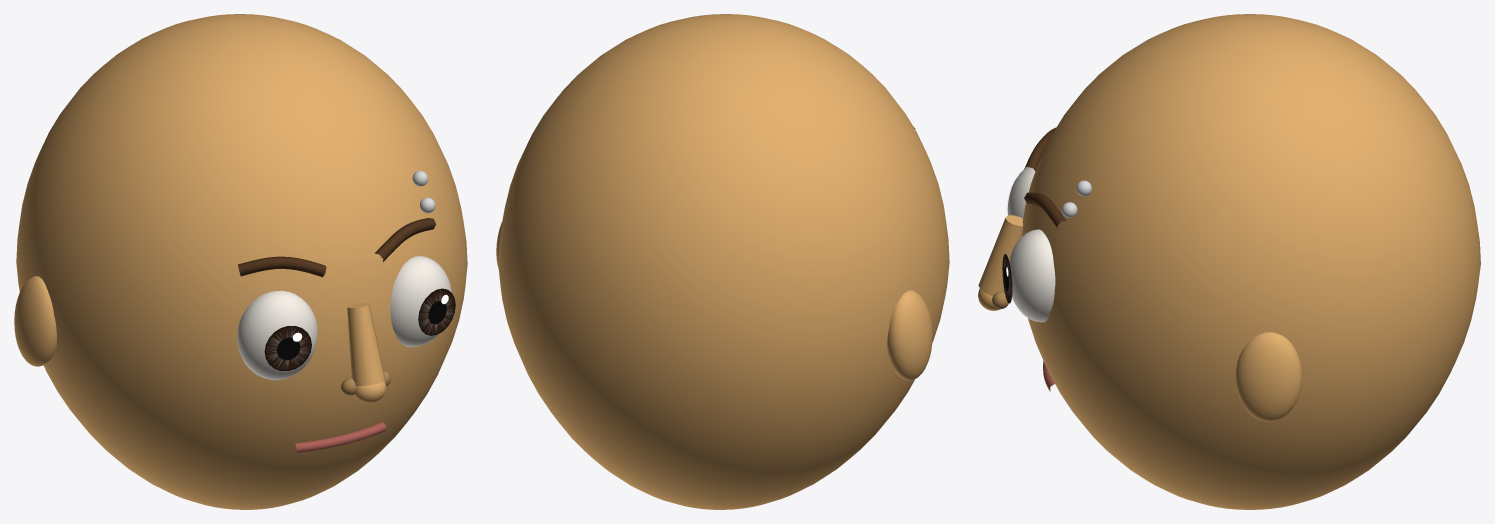
The model's file is 15-piercing-sourcil.glb.
3 views of the same model, side by side, from view 1: azimuth 30°, elevation 25°; view 2: azimuth 150°, elevation 25°; view 3: azimuth 270°, elevation 25° (orthographic).
Size of what is drawn, in the model's own units: 0.3087 by 0.321 by 0.3166.
10 materials, 1 textured.
